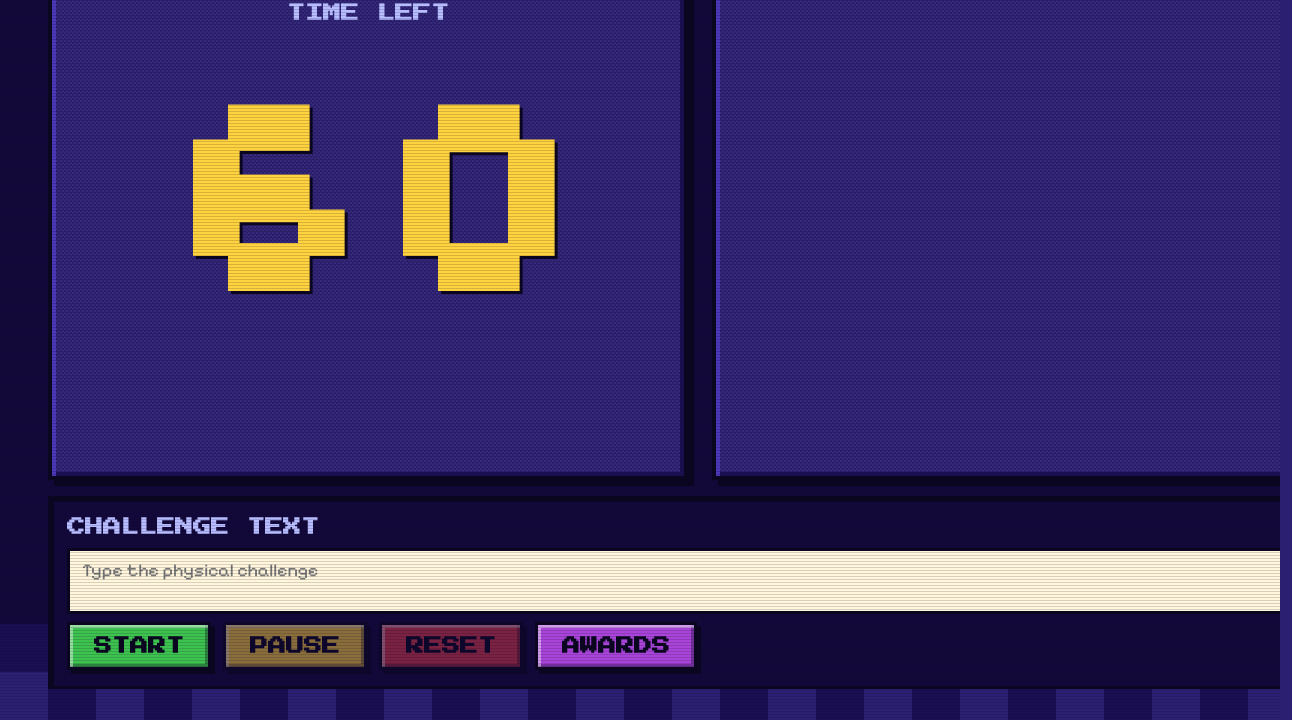
Test: SpeedRound › sends TIME_UP at zero and sounds the alarm exactly once
(page scrolled)
Click the button "Start": (139,646) [67,622,211,670]
Wait 70100 ms
(page scrolled)
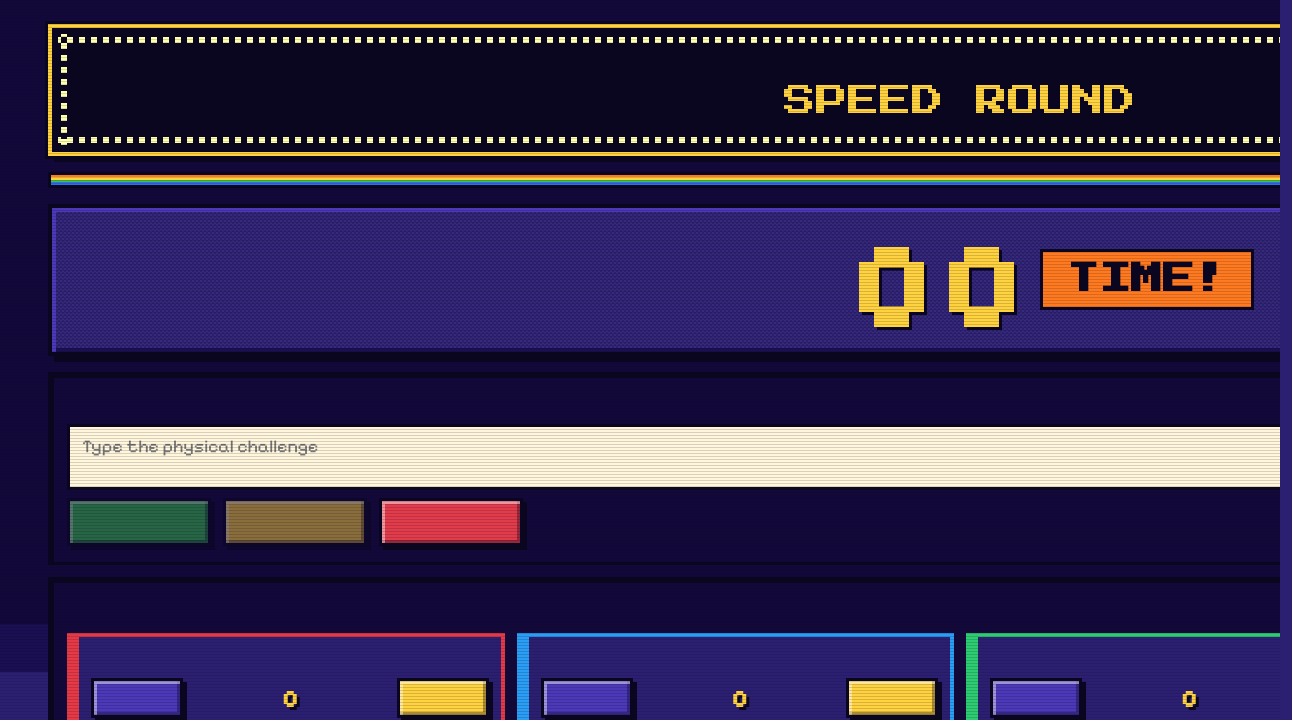
Result: the message reads "Time!" at [1067,263,1227,295]
